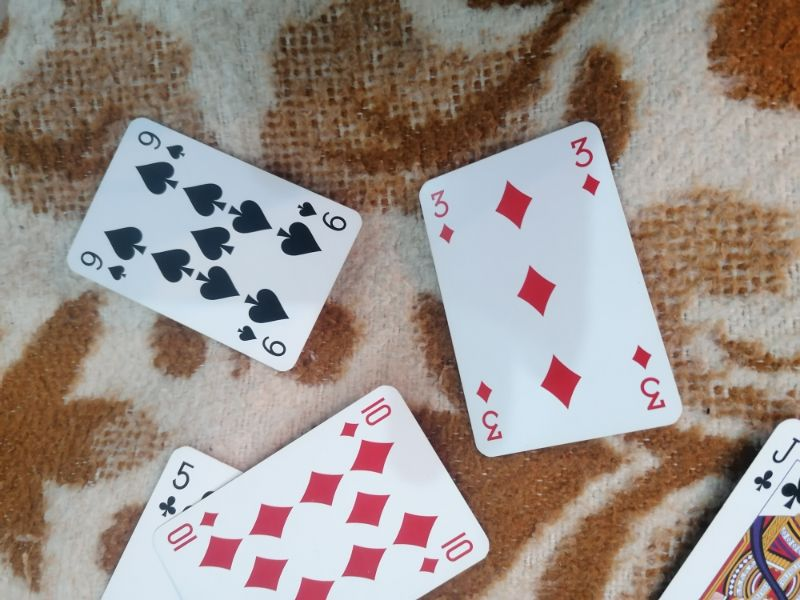3d: (630, 342, 669, 411), (472, 378, 508, 445), (566, 134, 604, 197), (427, 187, 459, 245)
5c: (156, 459, 199, 521)
9s: (235, 322, 288, 359), (295, 197, 349, 231), (77, 249, 130, 283), (135, 129, 187, 159)
Jc: (749, 433, 800, 496)
Td: (415, 530, 479, 577), (166, 504, 224, 554), (340, 394, 396, 440)
